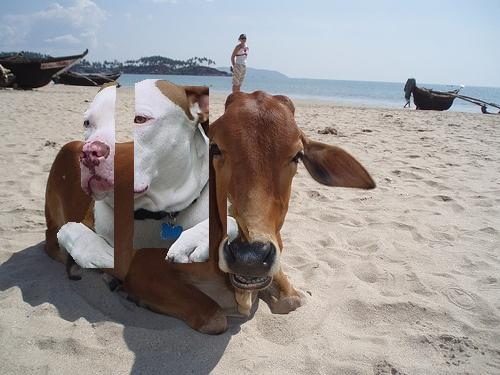tampered: (58, 80, 252, 268)
